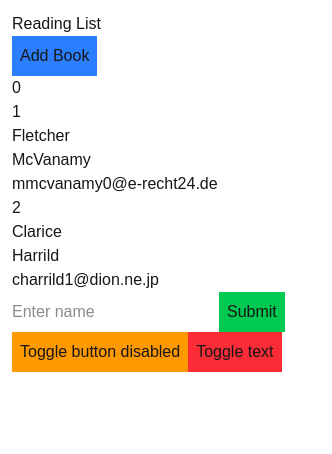
Test case: App Component › should click button when the user clicks
Step 1. Click the button with test id "btn-add" → (55, 56), box [12,36,97,76]
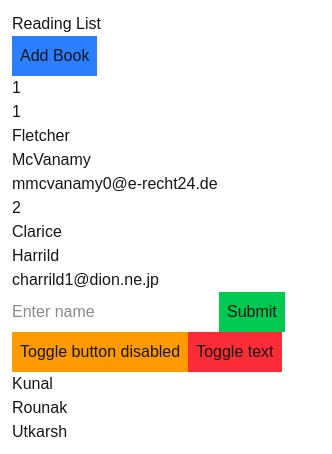
Check: the text with test id "bookResult" reads "1", box [12,79,21,96]
